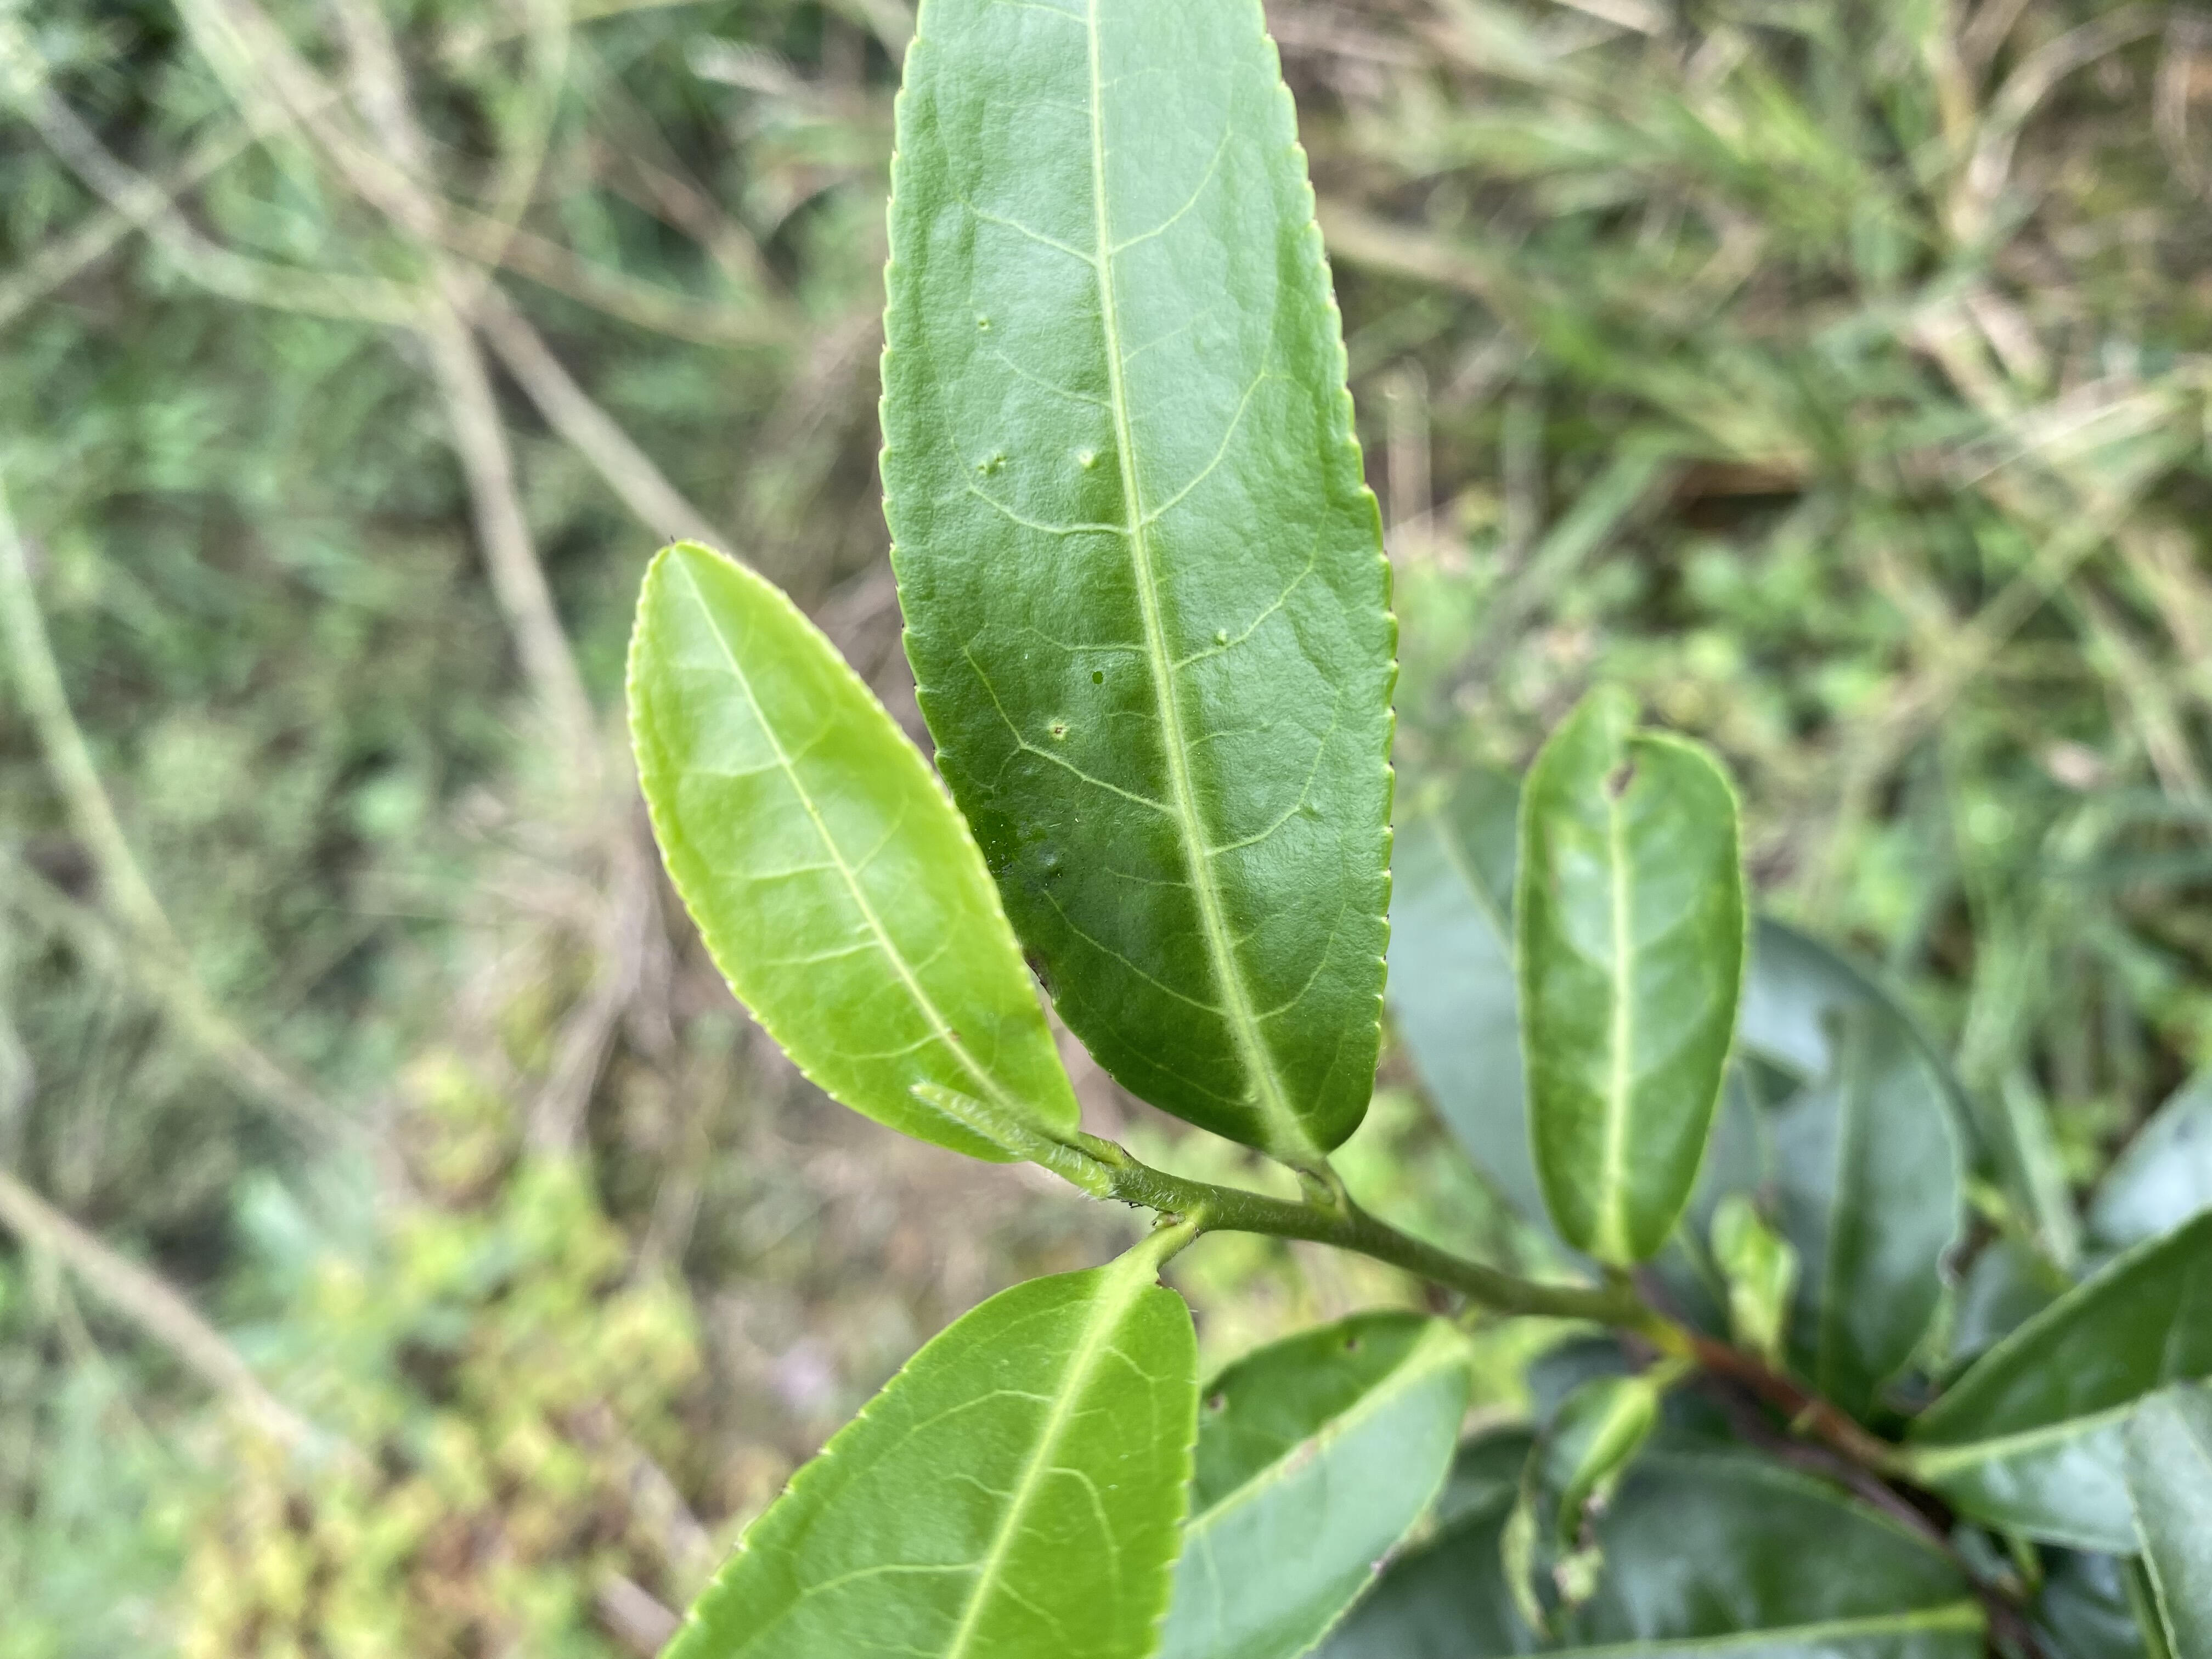healthy: (876, 2, 1402, 1164), (622, 538, 1083, 1166), (651, 1265, 1200, 1656)
